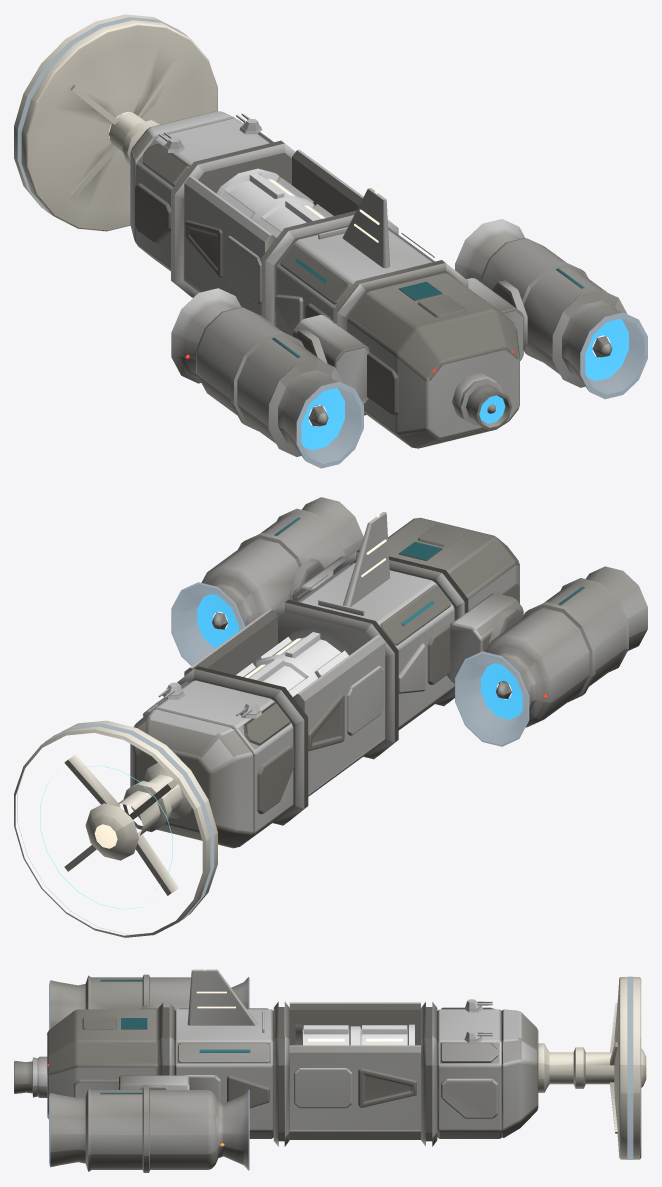
Rendered from troyden_ecm.glb.
3 renders of one model, top to bottom at view 1: azimuth 30°, elevation 25°; view 2: azimuth 150°, elevation 25°; view 3: azimuth 270°, elevation 25°, orthographic. The views are drawn at different scales.
Visible parts, largest first — view 1: hull, engines, emitter, reactor; view 2: hull, engines, emitter, reactor; view 3: hull, engines, emitter, reactor.
Part boxes in pixels (x1,y1,x2,y2): hull: (130,111,523,448); engines: (171,219,647,468); emitter: (14,14,217,231); reactor: (216,168,333,237); hull: (130,512,523,848); engines: (171,497,647,746); emitter: (14,720,217,937); reactor: (236,627,353,696); hull: (46,966,538,1146); engines: (14,974,249,1172); emitter: (538,976,647,1159); reactor: (295,1024,414,1045).
Bounding box in the file's own units: 29.77 × 17.77 × 55.4.
10 materials, 4 textured.
